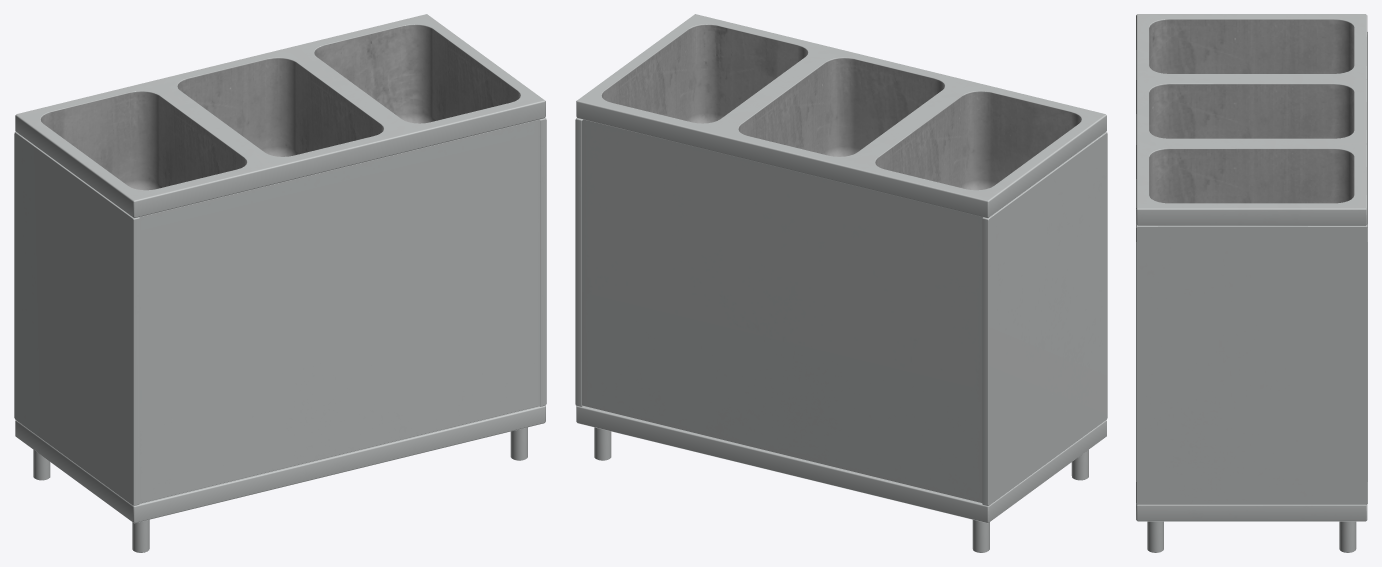
The model's file is ServingLine_01_Hoodless.FBX.
3 views of the same model, side by side, from view 1: azimuth 30°, elevation 25°; view 2: azimuth 150°, elevation 25°; view 3: azimuth 270°, elevation 25° (orthographic). The views are drawn at different scales.
Visible parts, largest first — view 1: ServingLine_01_Hoodless; view 2: ServingLine_01_Hoodless; view 3: ServingLine_01_Hoodless.
Part boxes in pixels (box(x1,y1,x2,y2)): ServingLine_01_Hoodless: box(14, 14, 546, 552); ServingLine_01_Hoodless: box(575, 14, 1107, 552); ServingLine_01_Hoodless: box(1136, 14, 1367, 552).
Bounding box in the file's own units: 120 × 100 × 60.13.
1 material, 1 textured.
